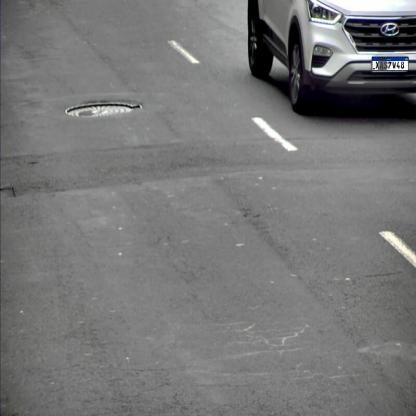PlacaM: (372, 57, 409, 71)
